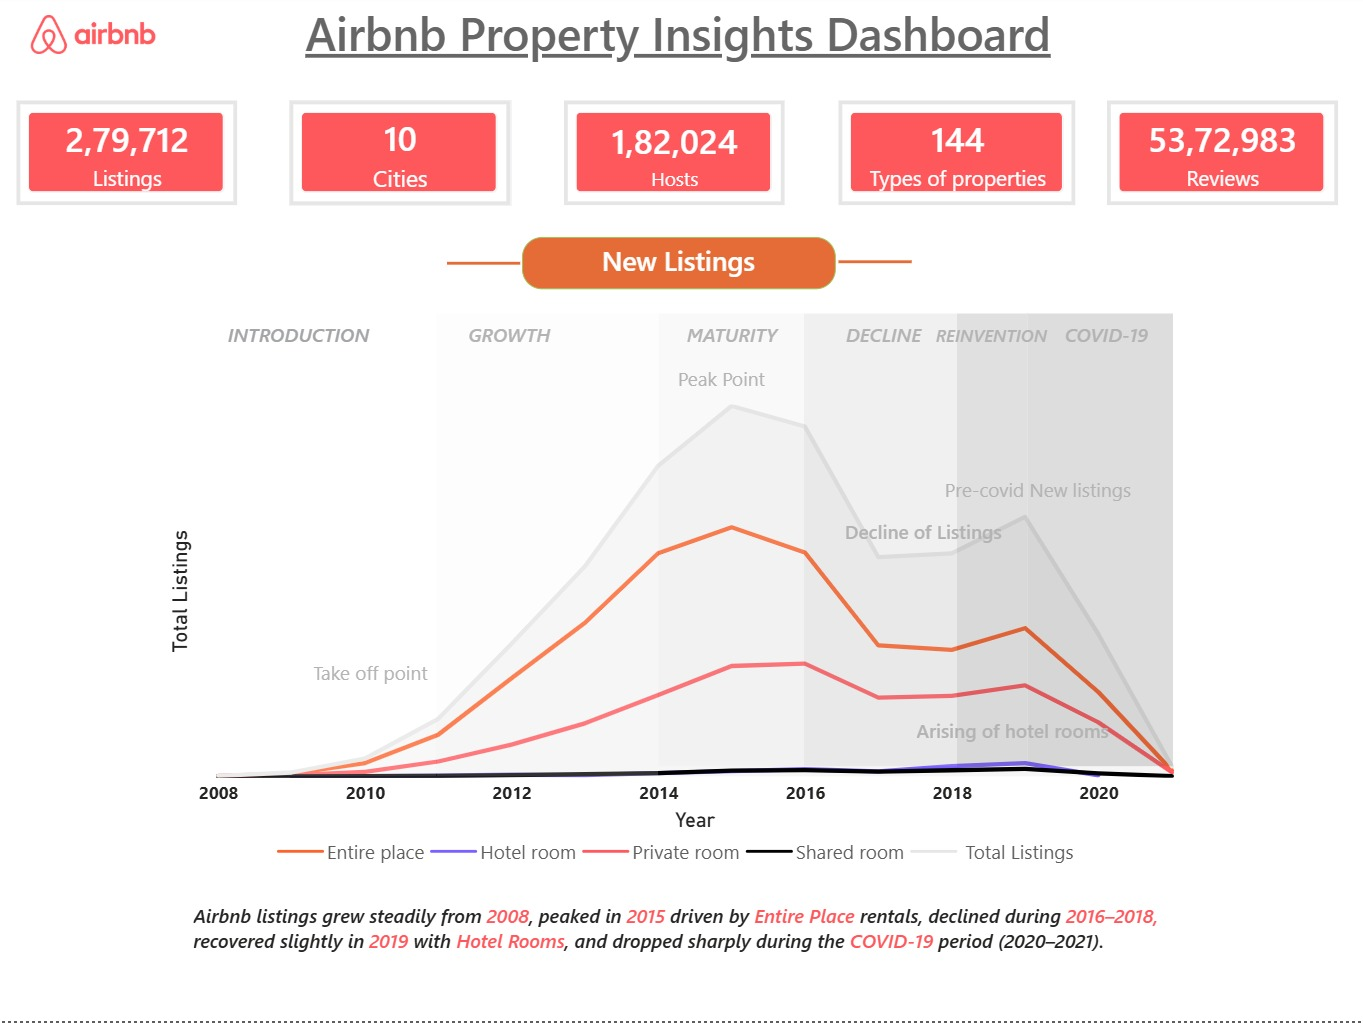

The dashboard page shown, as its layout file describes it:
{"tool":"powerbi","page":{"name":"Overview","canvas":[960,720],"ordinal":1},"visuals":[{"type":"textbox","box":[201.3,0,557.4,83.1],"z":0},{"type":"image","box":[15.8,14.7,107.3,27.3],"z":1000},{"type":"group","id":"g1","title":"Group 1","box":[116.7,224,727.7,396.5],"z":2000},{"type":"textbox","box":[135.1,631,689.9,78.9],"z":3000},{"type":"textbox","box":[586.8,361.8,129.3,44.2],"z":4000},{"type":"group","id":"g2","title":"Group 2","box":[317.6,89.4,326,197.7],"z":5000},{"type":"cardVisual","fields":{"Data":["Count(Listings.host_id)"]},"box":[399.6,74.7,154.6,73.6],"z":6000},{"type":"cardVisual","fields":{"Data":["Count(Listings.property_type)"]},"box":[592.1,74.7,166.2,73.6],"z":7000},{"type":"textbox","box":[370.2,170,219.8,36.8],"z":7000,"group":"g2"},{"type":"lineChart","fields":{"Category":["Listings.host_since.Variation.Date Hierarchy.Year"],"Y":["Listings.Entire place","Listings.Hotel room","Listings.Private room","Listings.Shared room","CountNonNull(Listings.listing_id)"]},"box":[116.7,274.5,727.7,346],"z":7000,"group":"g1"},{"type":"cardVisual","fields":{"Data":["Count(Reviews.review_id)"]},"box":[780.3,74.7,161.9,73.6],"z":8000},{"type":"shape","box":[317.6,90.5,51.5,196.7],"z":8000,"group":"g2"},{"type":"cardVisual","fields":{"Data":["Count(Listings.city)"]},"box":[207.7,74.7,154.6,73.6],"z":9000},{"type":"shape","box":[592.1,89.4,51.5,196.7],"z":9000,"group":"g2"},{"type":"cardVisual","fields":{"Data":["CountNonNull(Listings.listing_id)"]},"box":[15.8,74.7,154.6,73.6],"z":10000},{"type":"shape","box":[154.6,224,155.6,325],"z":11000,"group":"g1"},{"type":"shape","box":[465.8,224,102,317.6],"z":12000,"group":"g1"},{"type":"shape","box":[310.2,224,155.6,325],"z":13000,"group":"g1"},{"type":"shape","box":[567.8,224,107.3,317.6],"z":14000,"group":"g1"},{"type":"shape","box":[675.1,224,49.4,317.6],"z":15000,"group":"g1"},{"type":"shape","box":[724.5,224,102,317.6],"z":16000,"group":"g1"},{"type":"textbox","box":[154.6,224,117.8,36.8],"z":17000,"group":"g1"},{"type":"textbox","box":[320.7,224,81,38.9],"z":18000,"group":"g1"},{"type":"textbox","box":[476.4,224,82,56.8],"z":19000,"group":"g1"},{"type":"textbox","box":[567.8,224,111.5,50.5],"z":20000,"group":"g1"},{"type":"textbox","box":[655.4,224,120.9,38.9],"z":21000,"group":"g1"},{"type":"textbox","box":[745.6,224,91.5,57.8],"z":22000,"group":"g1"},{"type":"textbox","box":[218.7,460.6,91.5,37.9],"z":23000,"group":"g1"},{"type":"textbox","box":[465.8,254.5,88.3,37.9],"z":24000,"group":"g1"},{"type":"textbox","box":[661.4,332.3,155.6,35.8],"z":25000,"group":"g1"},{"type":"textbox","box":[641.5,501.6,203,40],"z":26000,"group":"g1"}]}

Visuals, with their boxes in screenshot pixels (x1, y1, x2, y2), scaled from the page's 960x720 canvas onto the 1363x1023 screenshot:
textbox: (286,0,1077,118)
image: (22,21,175,60)
"Group 1" group: (166,318,1199,882)
textbox: (192,897,1171,1009)
textbox: (833,514,1017,577)
"Group 2" group: (451,127,914,408)
cardVisual - Count(Listings.host_id): (567,106,787,211)
cardVisual - Count(Listings.property_type): (841,106,1077,211)
textbox: (526,242,838,294)
lineChart - Listings.host_since.Variation.Date Hierarchy.Year x Listings.Entire place: (166,390,1199,882)
cardVisual - Count(Reviews.review_id): (1108,106,1338,211)
shape: (451,129,524,408)
cardVisual - Count(Listings.city): (295,106,514,211)
shape: (841,127,914,407)
cardVisual - CountNonNull(Listings.listing_id): (22,106,242,211)
shape: (219,318,440,780)
shape: (661,318,806,770)
shape: (440,318,661,780)
shape: (806,318,959,770)
shape: (959,318,1029,770)
shape: (1029,318,1173,770)
textbox: (219,318,387,371)
textbox: (455,318,570,374)
textbox: (676,318,793,399)
textbox: (806,318,964,390)
textbox: (931,318,1102,374)
textbox: (1059,318,1189,400)
textbox: (311,654,440,708)
textbox: (661,362,787,415)
textbox: (939,472,1160,523)
textbox: (911,713,1199,770)
